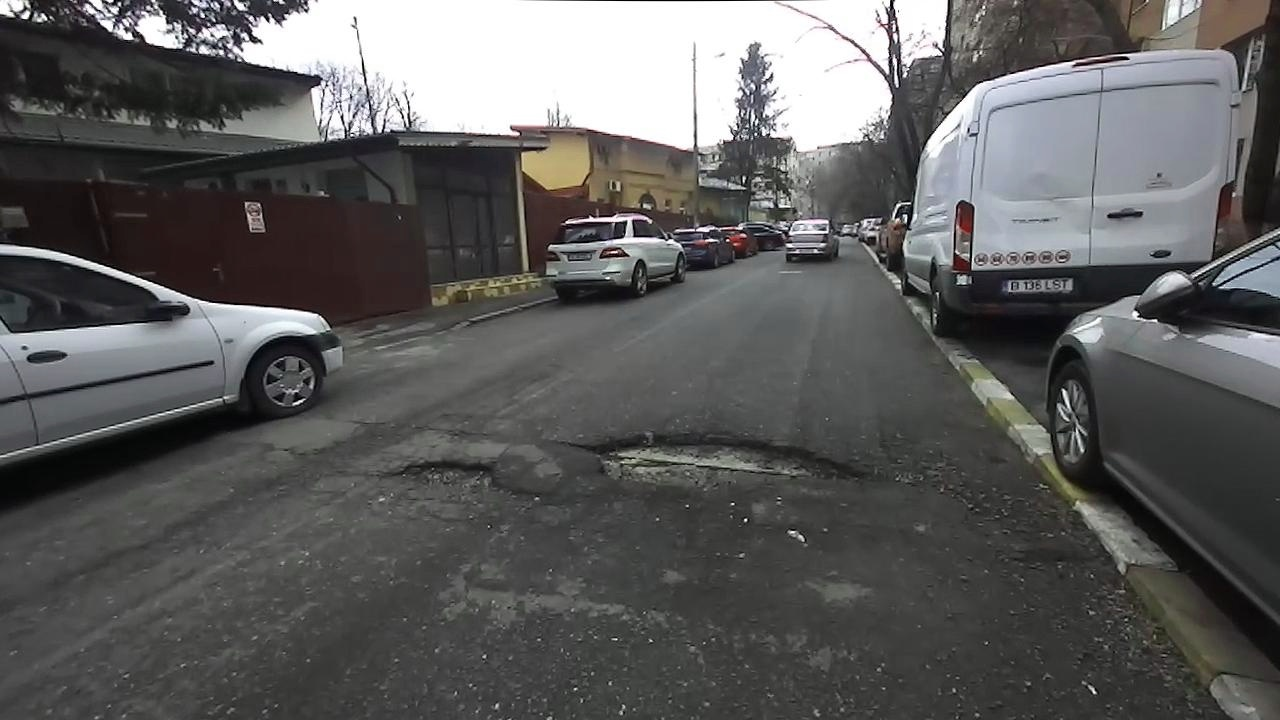pothole: (575, 424, 871, 491), (384, 453, 544, 502)
